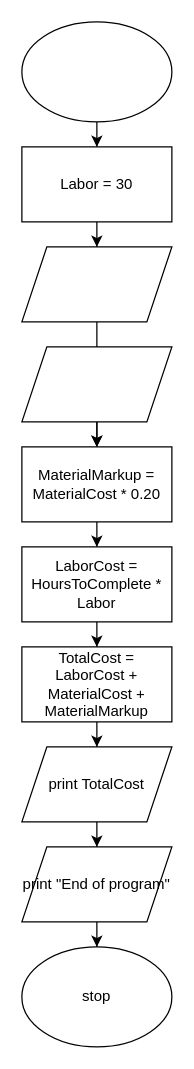
The diagram is 194 pixels wide and 1069 high, and some of its shapes have lost their labels. Each missing label, with the centre of its shape:
"input HoursToComplete" goes at point (96, 284).
"input MaterialCost" goes at point (96, 384).
"start" goes at point (96, 71).
